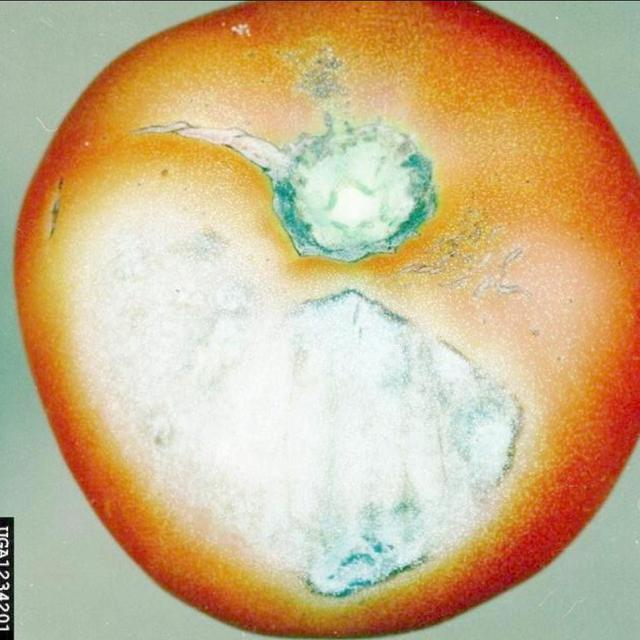Sunscald Fruit: (40, 135, 354, 402)
